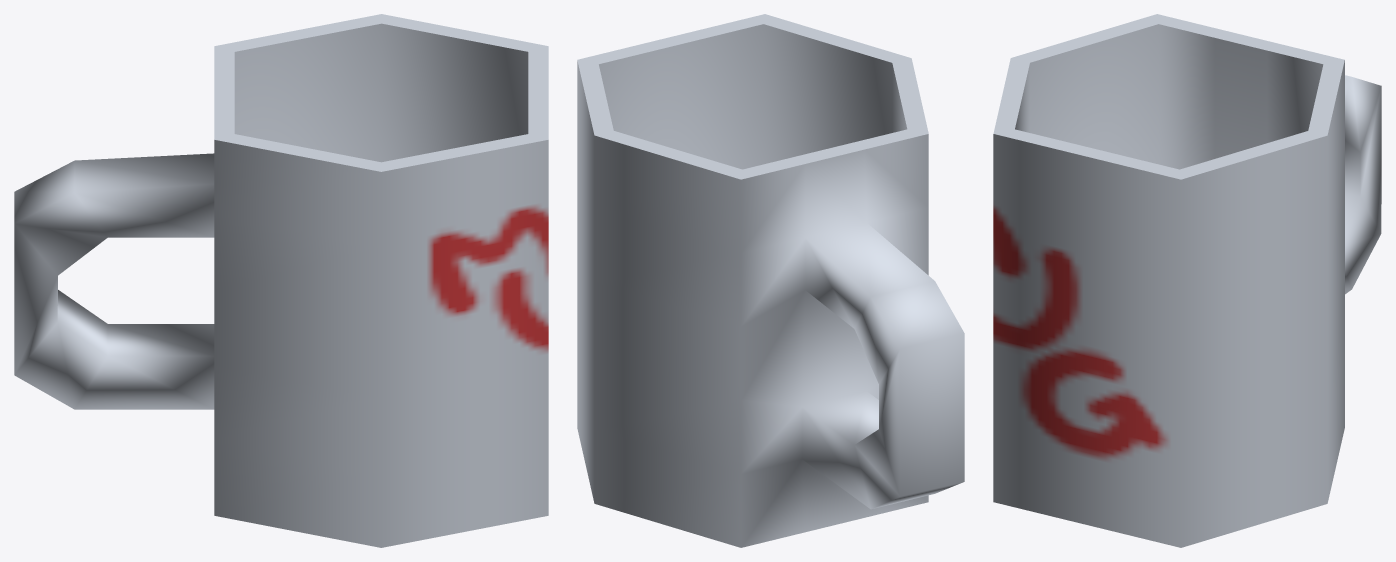
The model's file is BgMD_cup_pattern2.fbx.
3 renders of one model, left to right at view 1: azimuth 30°, elevation 25°; view 2: azimuth 150°, elevation 25°; view 3: azimuth 270°, elevation 25°, orthographic. The views are drawn at different scales.
Visible parts, largest first — view 1: BgMD_cup; view 2: BgMD_cup; view 3: BgMD_cup.
Part boxes in pixels (x1,y1,x2,y2): BgMD_cup: (14,14,548,547); BgMD_cup: (577,14,964,547); BgMD_cup: (993,14,1381,547).
Bounding box in the file's own units: 9.7 × 7.5 × 7.16.
